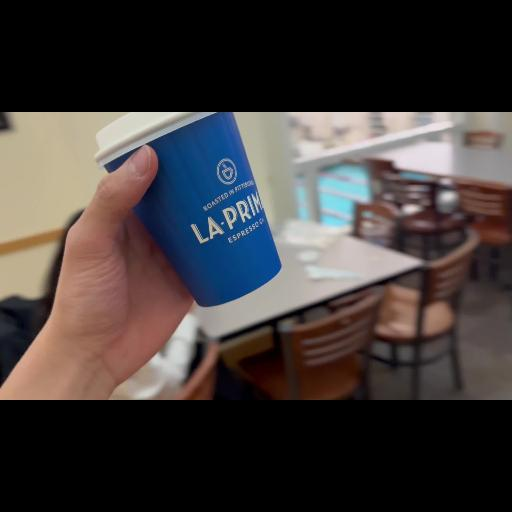lp_paper_cup: (84, 112, 294, 314)
